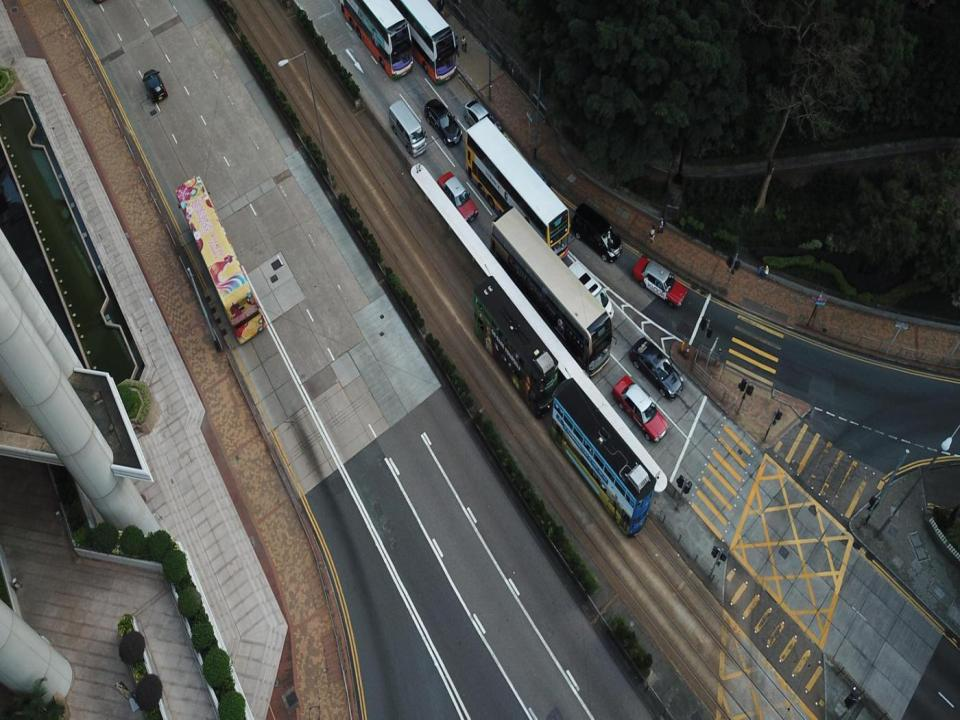bus: (491, 207, 614, 380), (552, 380, 656, 539), (465, 117, 570, 268), (175, 176, 266, 344), (472, 276, 559, 418), (340, 0, 413, 79), (391, 0, 456, 84)
car: (614, 378, 668, 441), (630, 339, 684, 398), (632, 255, 688, 310), (435, 171, 478, 227), (465, 100, 505, 142), (425, 97, 462, 142), (142, 70, 168, 100)
van: (570, 206, 622, 260), (388, 100, 425, 156)
